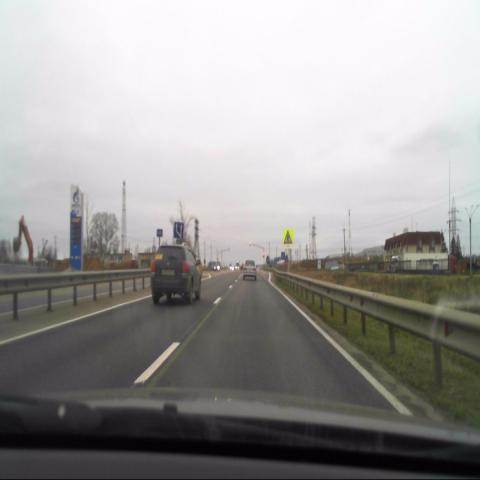1_22: (284, 230, 294, 245)
5_15_3: (174, 220, 183, 236)
